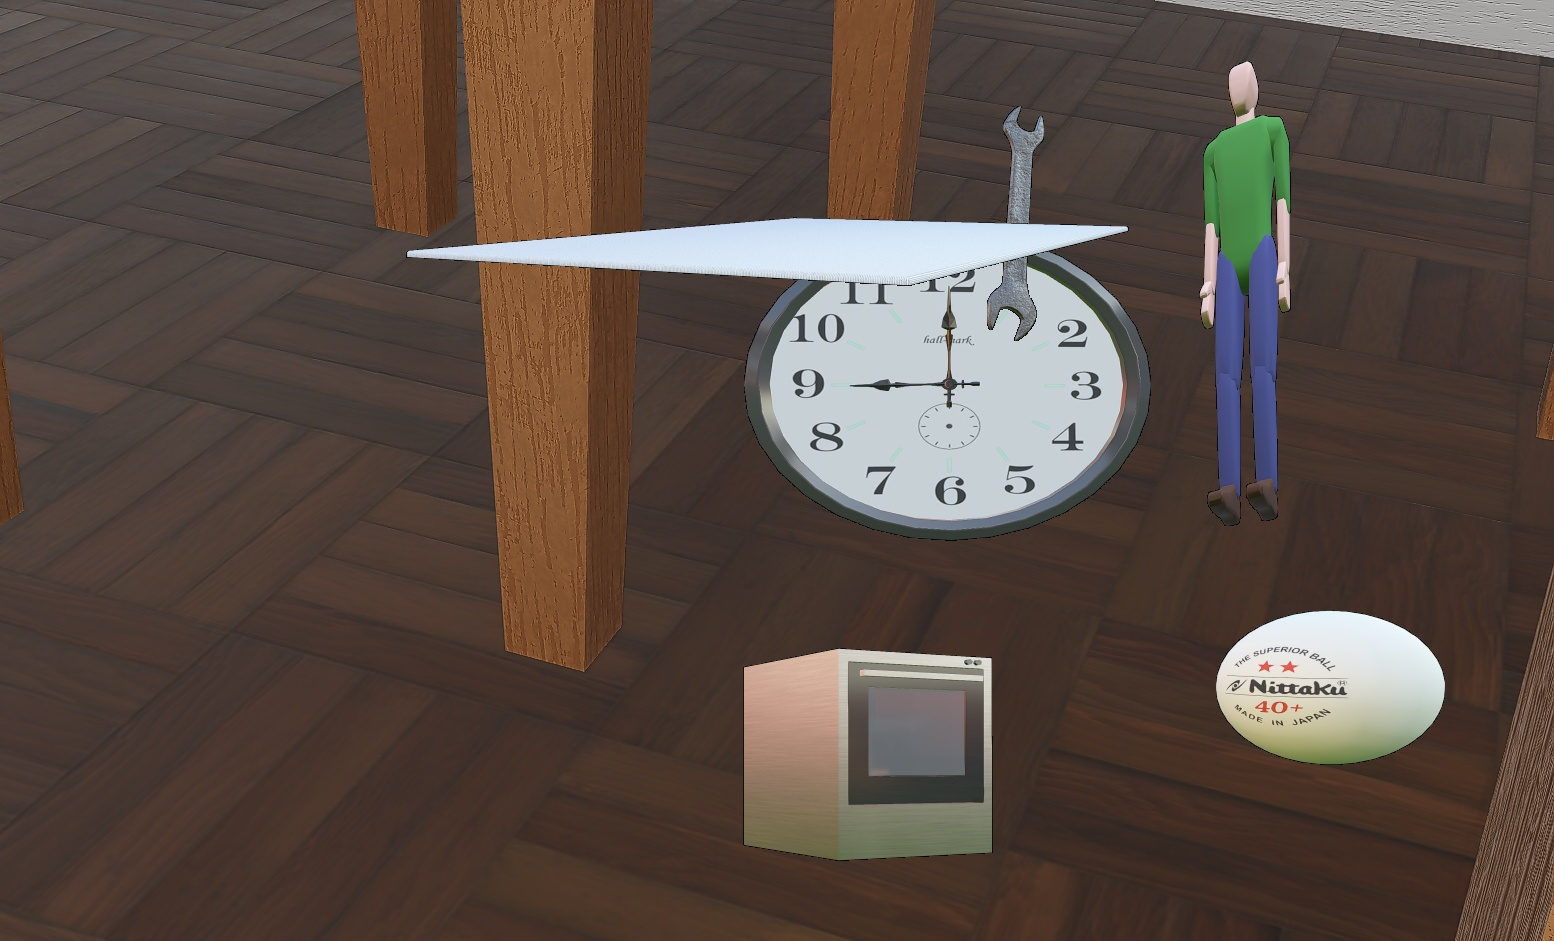alfombra: (406, 217, 1129, 286)
horno: (743, 648, 993, 861)
llave: (986, 105, 1045, 342)
pelota: (1215, 610, 1446, 765)
persona: (1199, 60, 1291, 527)
reloj: (743, 229, 1152, 541)
